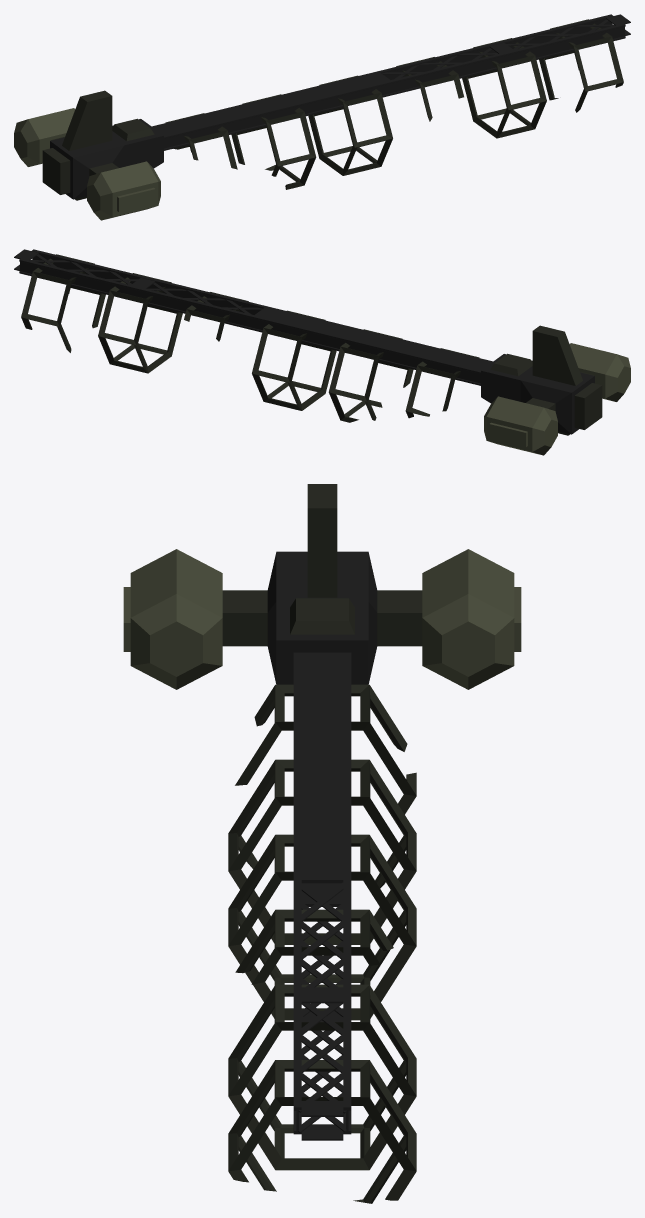
File: ruinedshipyard1.gltf
The picture shows the model from 3 angles, top to bottom: view 1: azimuth 30°, elevation 25°; view 2: azimuth 150°, elevation 25°; view 3: azimuth 270°, elevation 25°; orthographic projection. The views are drawn at different scales.
Visible parts, largest first — view 1: Cylinder.002; view 2: Cylinder.002; view 3: Cylinder.002.
Part boxes in pixels (x1=…): Cylinder.002: x1=14, y1=14, x2=630, y2=220; Cylinder.002: x1=14, y1=249, x2=630, y2=455; Cylinder.002: x1=123, y1=484, x2=521, y2=1203.
Bounding box in the file's own units: 11.18 × 2.39 × 3.35.
1 material, 1 textured.
